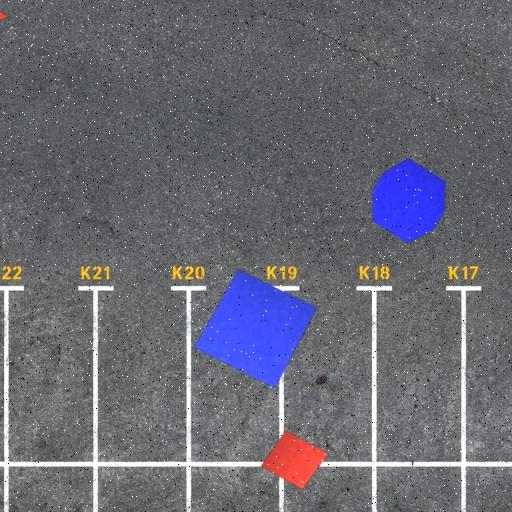BLUE_SQUARE: (194, 269, 318, 388)
RED_SQUARE: (260, 430, 329, 490)
